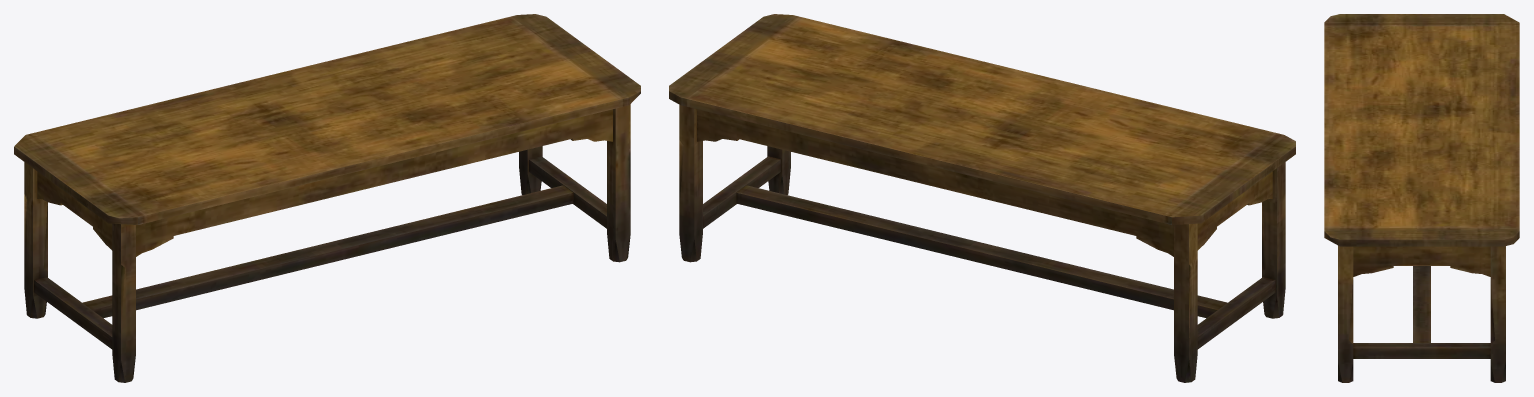
The model's file is p_table.glb.
The picture shows the model from 3 angles, left to right: view 1: azimuth 30°, elevation 25°; view 2: azimuth 150°, elevation 25°; view 3: azimuth 270°, elevation 25°; orthographic projection. The views are drawn at different scales.
Visible parts, largest first — view 1: WoodenTable_01; view 2: WoodenTable_01; view 3: WoodenTable_01.
Boxes of the visible parts, x1,y1,x2,y2 form: WoodenTable_01: (14, 14, 640, 382); WoodenTable_01: (669, 14, 1295, 382); WoodenTable_01: (1324, 14, 1519, 382).
Size of the model in its own units: 1.79 by 0.5489 by 0.6571.
1 material, 1 textured.
